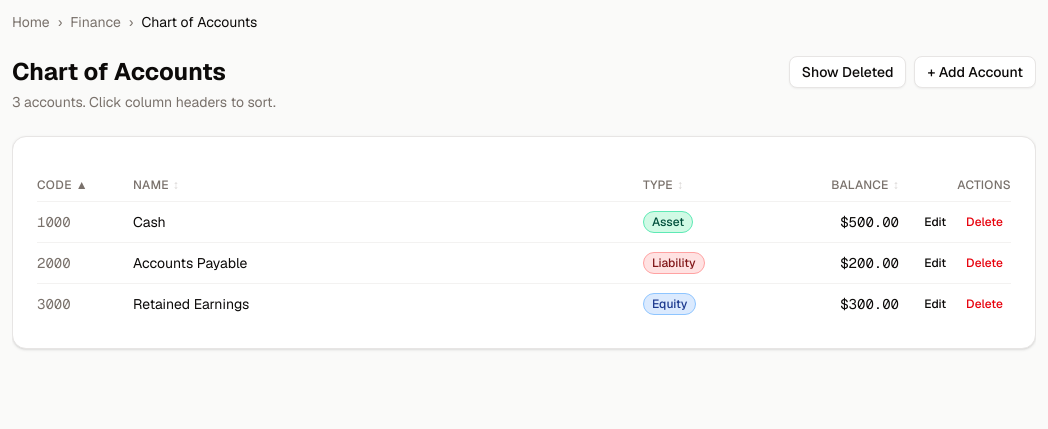
Test: ChartOfAccountsPage › shows generic error on delete failure with non-Error
This screenshot has width=1048, height=429.
Expected: the link "Cash" is shown, [133, 213, 166, 231]
# Click Delete then Yes
Click the button "Delete" in the row of "1000" at [985, 222], box [958, 210, 1011, 234]
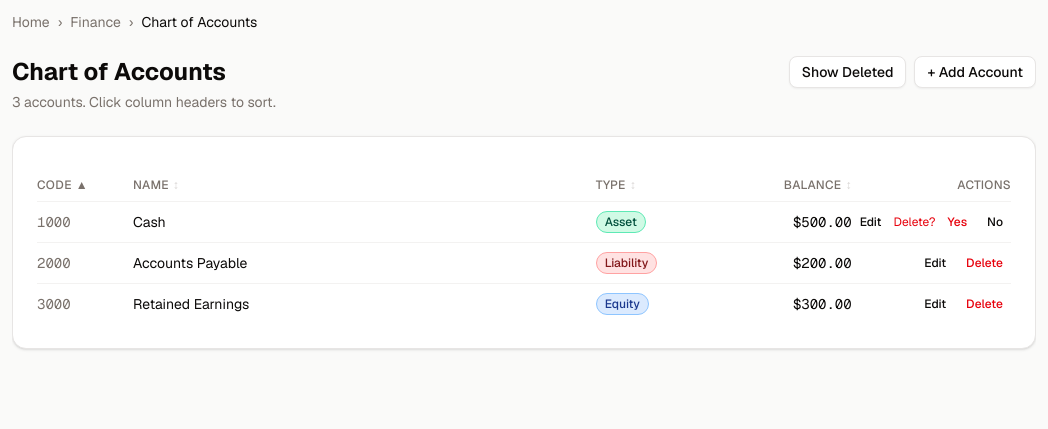
Click the button "Yes" at [957, 222], box [940, 210, 975, 234]
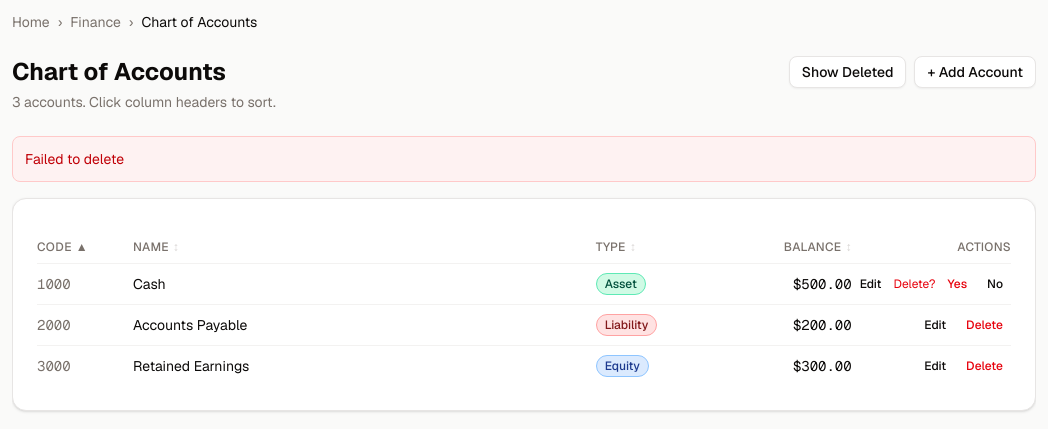
Expected: the text "Failed to delete" is shown, [12, 136, 1036, 182]
